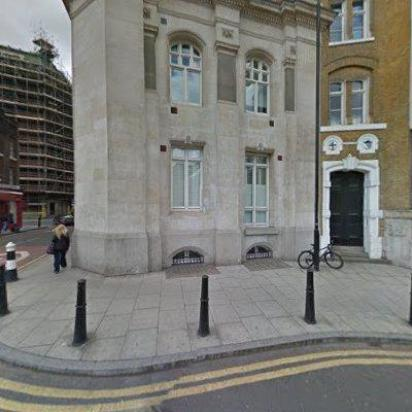moving-bicycle: (0, 186, 26, 238)
moving-car: (50, 211, 76, 229)
stationary-bicycle-onstreet: (297, 240, 345, 274)
